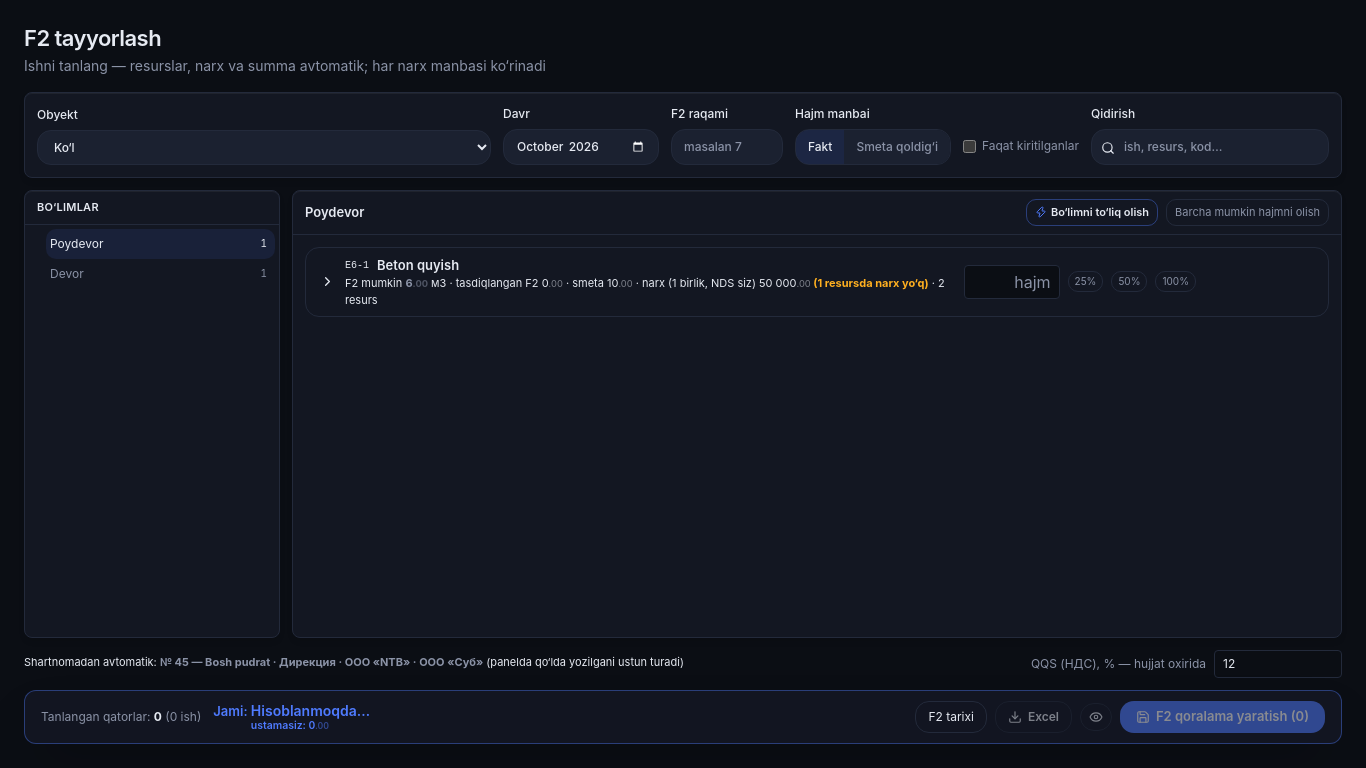
Test: F2 tayyorlash › bo‘limlar navigatori va qidiruv
Expected: the field named "F2 hajmi: Beton quyish" is shown, [964, 265, 1060, 299]
Expected: the text "G‘isht terish" is not shown
Click the button "Devor 1": [160, 274] box [46, 258, 275, 288]
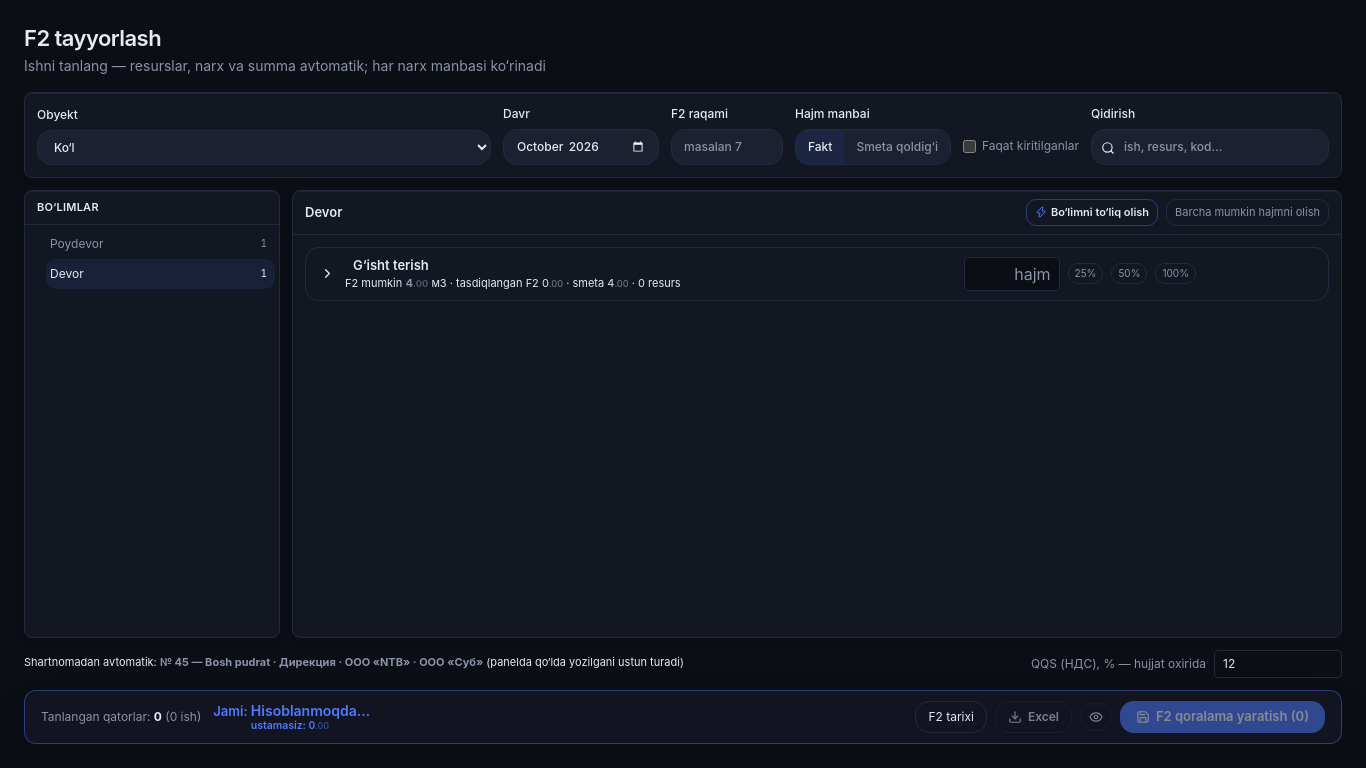
Now the text "G‘isht terish" is shown, box [353, 256, 429, 275]
In the field labelled "Qidirish": [1210, 147] box [1091, 129, 1329, 165], type "kran"
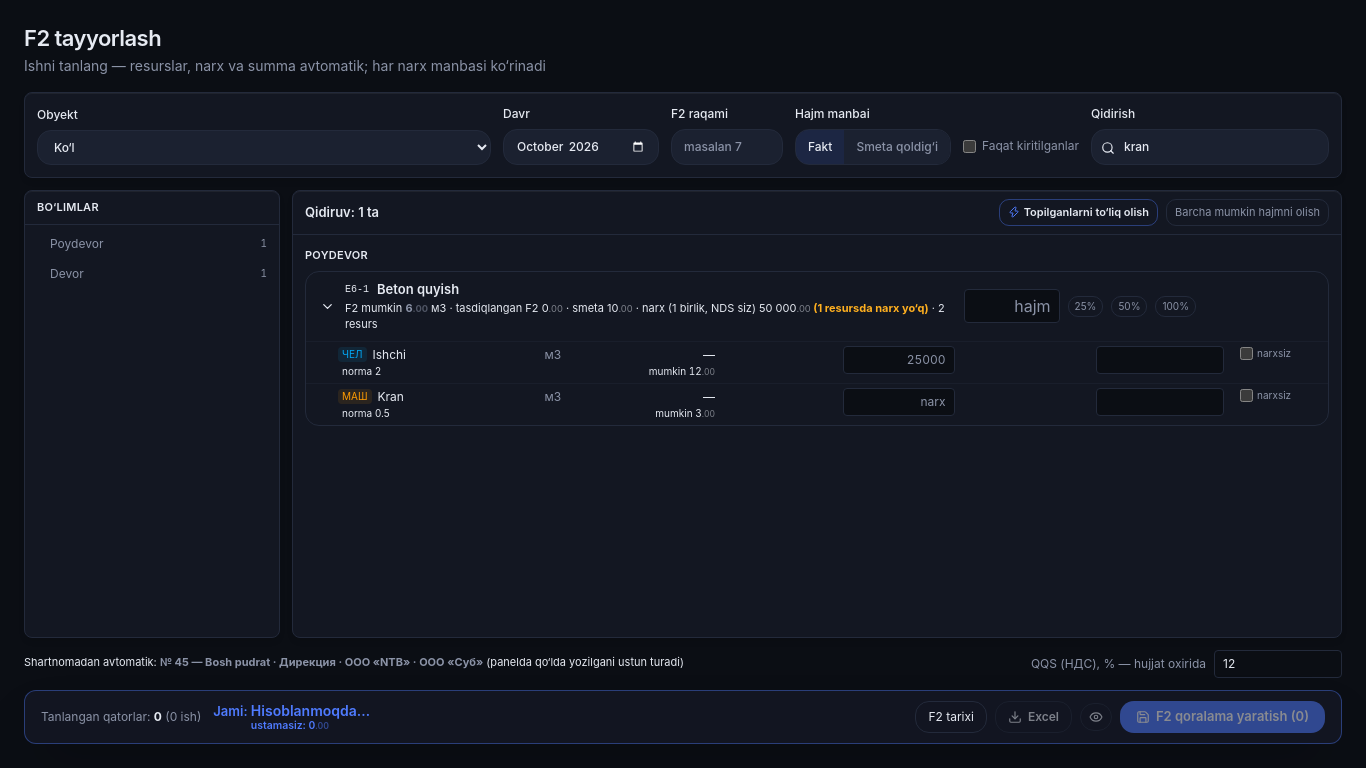
Now the text "Beton quyish" is shown, box [377, 280, 459, 300]
Now the text "G‘isht terish" is gone
